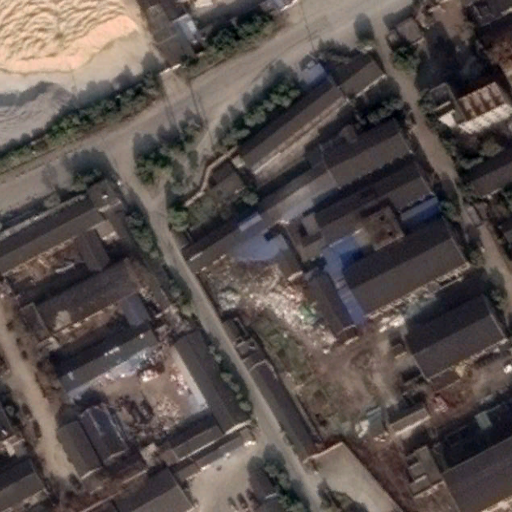msw: (214, 256, 335, 350)
